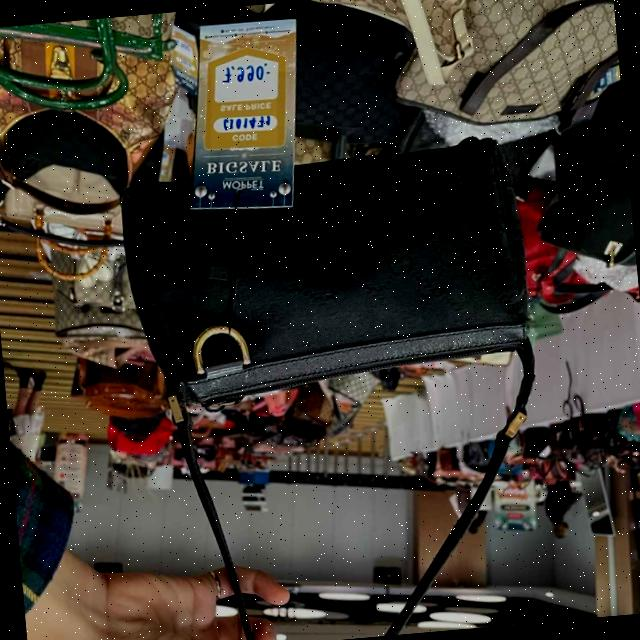Handbag: (95, 115, 554, 412)
